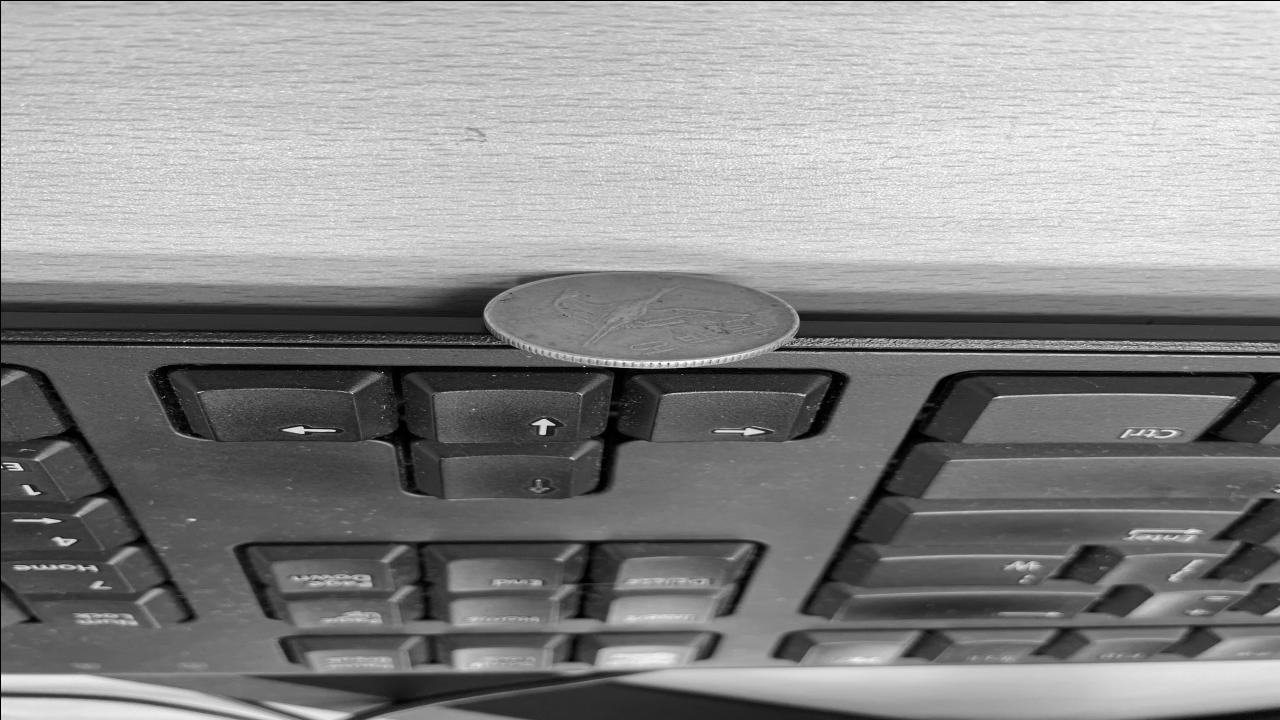coin: (484, 272, 804, 367)
